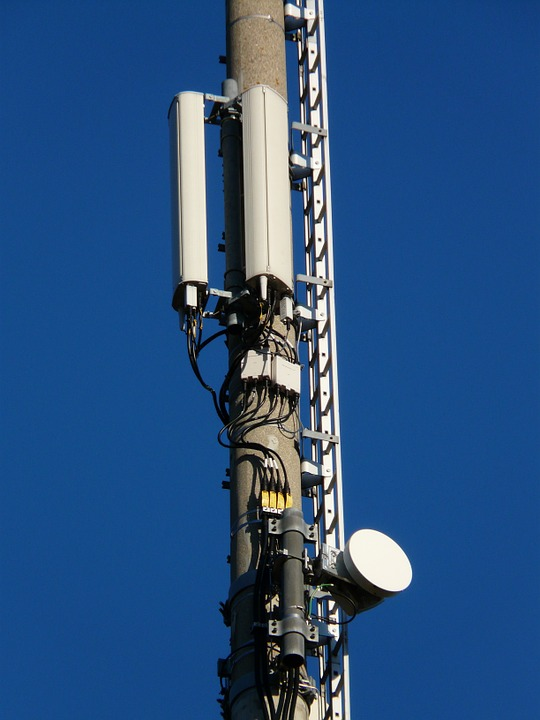a: (239, 84, 295, 302), (166, 91, 216, 312)
b: (344, 526, 413, 597)
